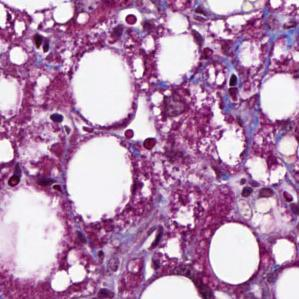inflammation: (33, 20, 54, 55), (227, 72, 244, 109)
